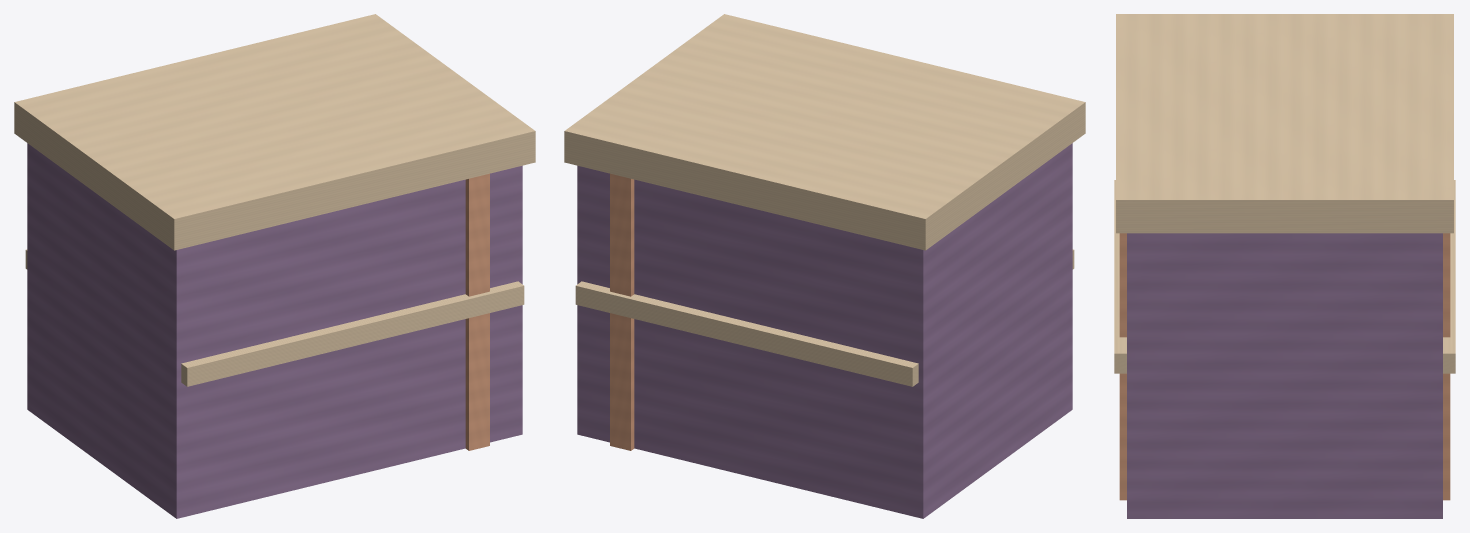
File: atlas100-papercraft-util02.lod2.glb
3 views of the same model, side by side, from view 1: azimuth 30°, elevation 25°; view 2: azimuth 150°, elevation 25°; view 3: azimuth 270°, elevation 25° (orthographic). The views are drawn at different scales.
Parts seen in each view (by area): view 1: atlas100-papercraft-util02:part-000, atlas100-papercraft-util02:part-005, atlas100-papercraft-util02:part-004, atlas100-papercraft-util02:part-002; view 2: atlas100-papercraft-util02:part-000, atlas100-papercraft-util02:part-005, atlas100-papercraft-util02:part-003, atlas100-papercraft-util02:part-002; view 3: atlas100-papercraft-util02:part-000, atlas100-papercraft-util02:part-005, atlas100-papercraft-util02:part-002, atlas100-papercraft-util02:part-003, atlas100-papercraft-util02:part-004.
Boxes of the visible parts, x1,y1,x2,y2 form: atlas100-papercraft-util02:part-000: (27, 143, 522, 518); atlas100-papercraft-util02:part-005: (14, 14, 535, 250); atlas100-papercraft-util02:part-004: (181, 281, 524, 386); atlas100-papercraft-util02:part-002: (465, 173, 489, 450); atlas100-papercraft-util02:part-000: (577, 143, 1072, 518); atlas100-papercraft-util02:part-005: (564, 14, 1085, 250); atlas100-papercraft-util02:part-003: (575, 281, 918, 386); atlas100-papercraft-util02:part-002: (610, 173, 634, 450); atlas100-papercraft-util02:part-000: (1127, 233, 1442, 518); atlas100-papercraft-util02:part-005: (1116, 14, 1453, 233); atlas100-papercraft-util02:part-002: (1119, 233, 1450, 500); atlas100-papercraft-util02:part-003: (1443, 180, 1455, 373); atlas100-papercraft-util02:part-004: (1114, 180, 1126, 373).
Bounding box in the file's own units: 1.34 × 1.08 × 1.04.
Materials: 3 (3 with a texture image).
